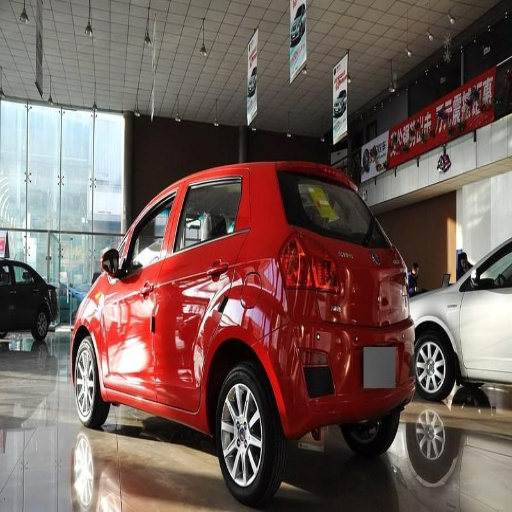trunk: (275, 320, 393, 429)
